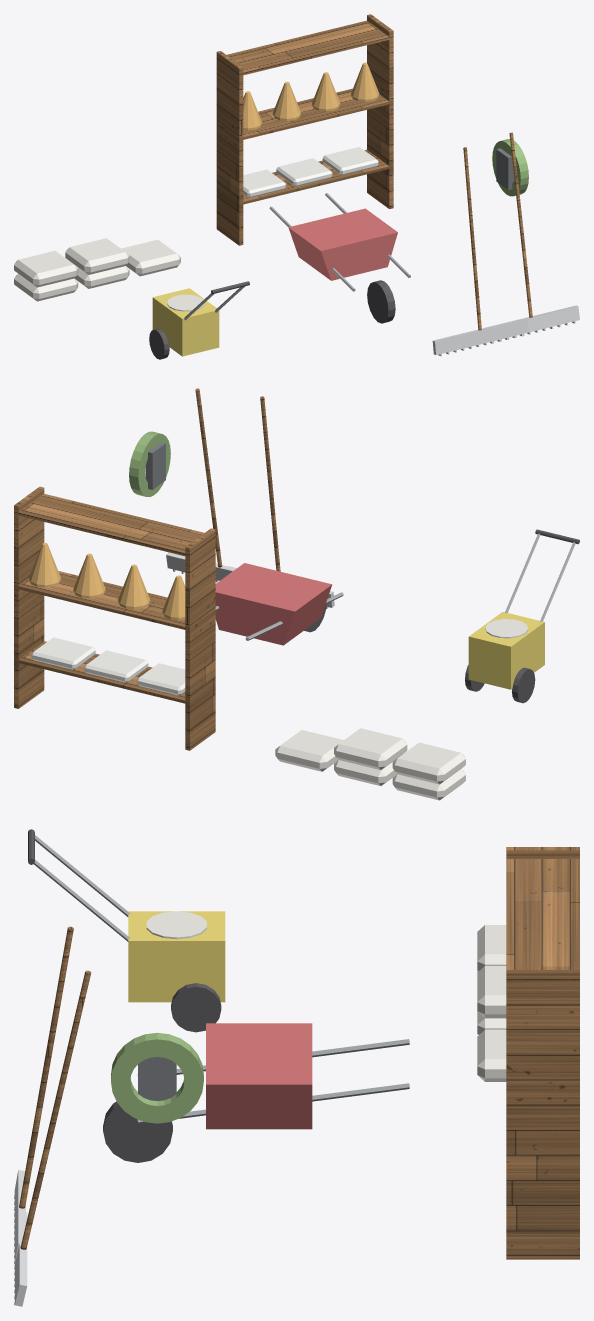
File: shed_stuff.glb
3 renders of one model, top to bottom at view 1: azimuth 30°, elevation 25°; view 2: azimuth 150°, elevation 25°; view 3: azimuth 270°, elevation 25°, orthographic. The views are drawn at different scales.
Parts seen in each view (by area): view 1: shed_stuff_wood, shed_stuff_paper, shed_stuff_flag_r, shed_stuff_paint_y, shed_stuff_paint_w, shed_stuff_flag_o, shed_stuff_alu, shed_stuff_rubber, shed_stuff_food_g, shed_stuff_steel, shed_stuff_steel_d; view 2: shed_stuff_wood, shed_stuff_paper, shed_stuff_flag_r, shed_stuff_paint_y, shed_stuff_paint_w, shed_stuff_flag_o, shed_stuff_food_g, shed_stuff_rubber, shed_stuff_steel, shed_stuff_steel_d, shed_stuff_alu; view 3: shed_stuff_wood, shed_stuff_flag_r, shed_stuff_paint_y, shed_stuff_paper, shed_stuff_food_g, shed_stuff_rubber, shed_stuff_steel, shed_stuff_steel_d, shed_stuff_alu.
Boxes of the visible parts, box(x1,y1,x2,y2) form: shed_stuff_wood: box(216, 14, 532, 330); shed_stuff_paper: box(14, 238, 204, 311); shed_stuff_flag_r: box(288, 208, 397, 280); shed_stuff_paint_y: box(152, 288, 219, 356); shed_stuff_paint_w: box(243, 147, 378, 197); shed_stuff_flag_o: box(243, 62, 379, 130); shed_stuff_alu: box(432, 305, 579, 356); shed_stuff_rubber: box(149, 280, 395, 359); shed_stuff_food_g: box(492, 139, 528, 196); shed_stuff_steel: box(184, 193, 410, 320); shed_stuff_steel_d: box(496, 148, 514, 189); shed_stuff_wood: box(14, 388, 280, 750); shed_stuff_paper: box(275, 619, 528, 800); shed_stuff_flag_r: box(215, 563, 332, 645); shed_stuff_paint_y: box(468, 612, 544, 689); shed_stuff_paint_w: box(31, 637, 185, 695); shed_stuff_flag_o: box(28, 543, 185, 620); shed_stuff_food_g: box(129, 431, 170, 496); shed_stuff_rubber: box(304, 529, 579, 703); shed_stuff_steel: box(215, 533, 575, 640); shed_stuff_steel_d: box(145, 442, 165, 489); shed_stuff_alu: box(166, 552, 334, 608); shed_stuff_wood: box(19, 847, 579, 1259); shed_stuff_flag_r: box(206, 1023, 312, 1129); shed_stuff_paint_y: box(128, 911, 225, 1002); shed_stuff_paper: box(146, 911, 506, 1081); shed_stuff_food_g: box(111, 1032, 203, 1123); shed_stuff_rubber: box(28, 829, 221, 1162); shed_stuff_steel: box(34, 835, 409, 1123); shed_stuff_steel_d: box(138, 1057, 176, 1100); shed_stuff_alu: box(14, 1170, 27, 1306).
Size of the model in its own units: 3.92 by 1.77 by 2.92.
Materials: 11 (1 with a texture image).
